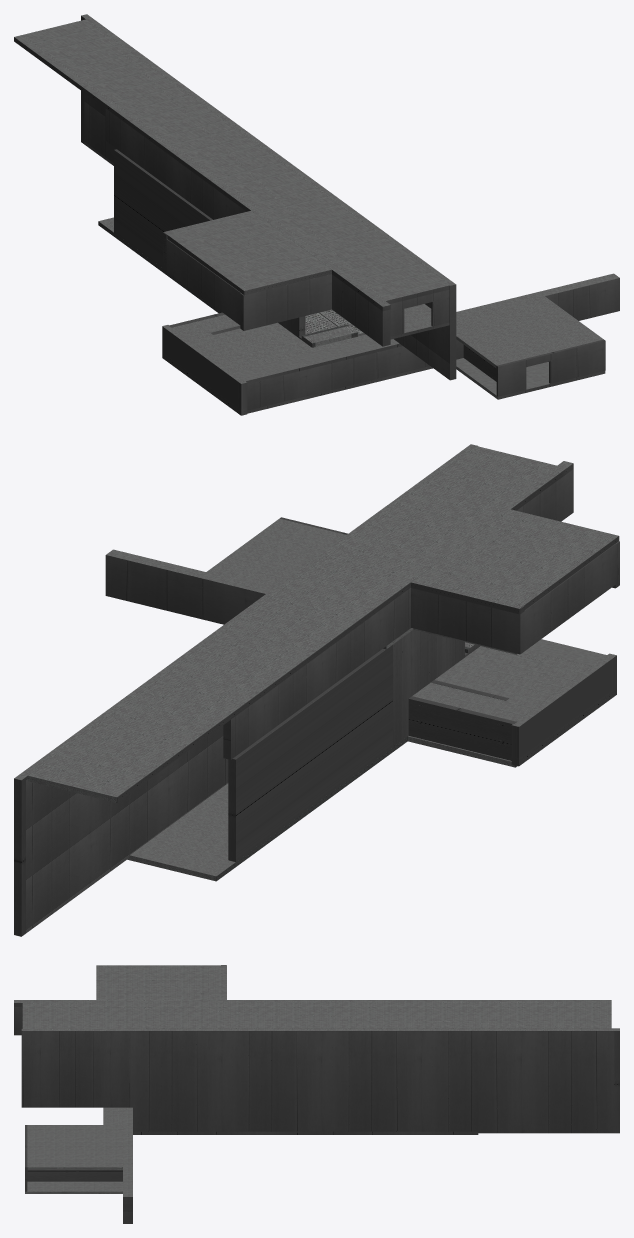
Rendered from SplitMap3.fbx.
3 views of the same model, one above another, from view 1: azimuth 30°, elevation 25°; view 2: azimuth 150°, elevation 25°; view 3: azimuth 270°, elevation 25° (orthographic). The views are drawn at different scales.
Parts seen in each view (by area): view 1: Cube.016, Cube.030, Cube.033, Cube.007, Cube.039, Cube.026, Cube.004, Cube.032, Cube.013, Cube.022, Cube.001, Cube.036 (+11 smaller); view 2: Cube.016, Cube.013, Cube.007, Cube.030, Cube.026, Cube.032, Cube.004, Cube.009, Cube.001, Cube.033, Cube.027, Cube.005 (+4 smaller); view 3: Cube.013, Cube.016, Cube.014, Cube.030, Cube.033, Cube.009, Cube.034, Cube.032, Cube.031.
Part boxes in pixels (x1=…): Cube.016: x1=14, y1=19, x2=450, y2=311; Cube.030: x1=164, y1=211, x2=331, y2=295; Cube.033: x1=456, y1=296, x2=603, y2=368; Cube.007: x1=114, y1=149, x2=305, y2=337; Cube.039: x1=247, y1=339, x2=463, y2=410; Cube.026: x1=105, y1=109, x2=246, y2=219; Cube.004: x1=172, y1=314, x2=310, y2=372; Cube.032: x1=262, y1=273, x2=619, y2=363; Cube.013: x1=81, y1=14, x2=388, y2=236; Cube.022: x1=240, y1=274, x2=331, y2=330; Cube.001: x1=162, y1=325, x2=247, y2=415; Cube.036: x1=496, y1=339, x2=605, y2=396; Cube.016: x1=28, y1=446, x2=573, y2=802; Cube.013: x1=14, y1=504, x2=395, y2=936; Cube.007: x1=228, y1=629, x2=464, y2=861; Cube.030: x1=411, y1=509, x2=619, y2=614; Cube.026: x1=223, y1=588, x2=410, y2=759; Cube.032: x1=105, y1=549, x2=547, y2=660; Cube.004: x1=412, y1=646, x2=591, y2=721; Cube.009: x1=127, y1=736, x2=407, y2=881; Cube.001: x1=511, y1=653, x2=616, y2=766; Cube.033: x1=206, y1=518, x2=345, y2=588; Cube.027: x1=411, y1=588, x2=524, y2=654; Cube.005: x1=408, y1=696, x2=516, y2=760; Cube.013: x1=130, y1=1028, x2=619, y2=1133; Cube.016: x1=14, y1=1000, x2=611, y2=1028; Cube.014: x1=21, y1=1028, x2=130, y2=1107; Cube.030: x1=96, y1=965, x2=226, y2=999; Cube.033: x1=27, y1=1125, x2=122, y2=1169; Cube.009: x1=133, y1=1131, x2=478, y2=1134; Cube.034: x1=25, y1=1181, x2=122, y2=1193; Cube.032: x1=123, y1=1107, x2=132, y2=1223; Cube.031: x1=27, y1=1170, x2=122, y2=1181.
Size of the model in its own units: 12910 by 4039 by 21283.
